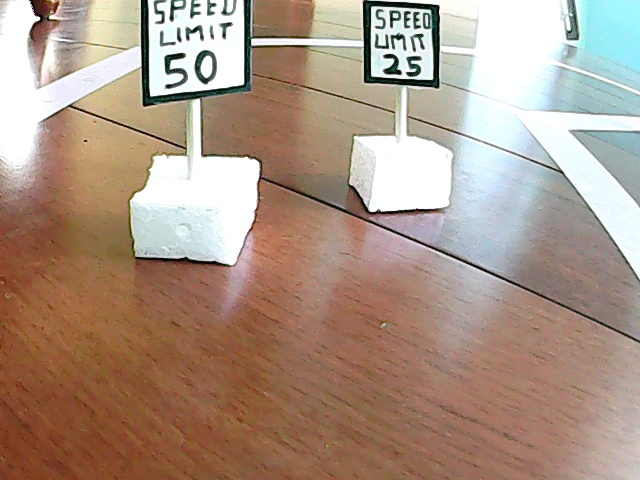speed_25: (348, 1, 464, 211)
speed_50: (125, 1, 275, 252)
